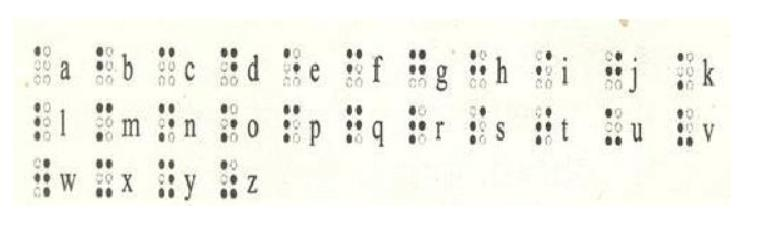Braille: (407, 48, 428, 88), (282, 47, 302, 88), (345, 47, 365, 88), (219, 46, 239, 86), (604, 50, 623, 91), (534, 106, 553, 147), (345, 104, 364, 144), (220, 158, 238, 200), (220, 103, 238, 145), (469, 106, 488, 145), (469, 48, 487, 89), (34, 101, 52, 142), (535, 49, 553, 89), (33, 157, 51, 197), (34, 46, 52, 85), (96, 46, 114, 85), (676, 52, 694, 91), (408, 105, 426, 144), (605, 107, 623, 146), (283, 103, 300, 144), (159, 47, 176, 87), (158, 103, 175, 142), (158, 159, 175, 198), (96, 158, 112, 198), (677, 110, 694, 147), (97, 103, 113, 142)
